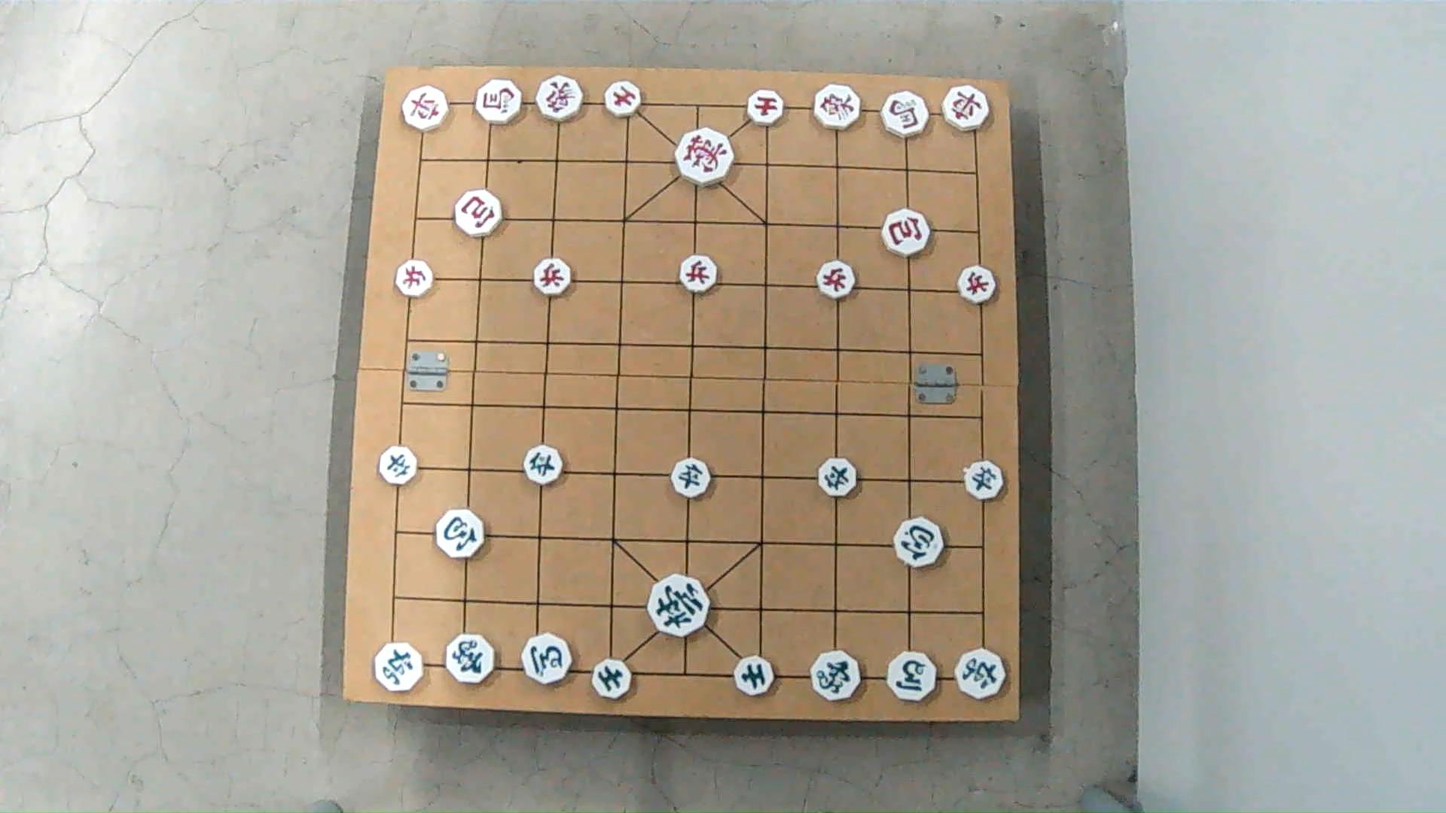cha_green: (956, 647, 1006, 701), (374, 644, 426, 691)
cha_red: (398, 84, 451, 131), (944, 84, 990, 134)
jol_green: (672, 461, 714, 498), (961, 461, 1003, 498), (525, 446, 565, 484), (380, 446, 419, 484), (816, 461, 856, 498)
jol_red: (532, 258, 574, 294), (816, 262, 856, 298), (678, 257, 717, 293), (956, 266, 995, 302), (393, 260, 433, 294)
ma_green: (520, 634, 572, 687), (885, 651, 938, 703)
ma_red: (880, 92, 931, 139), (474, 79, 523, 123)
po_green: (432, 511, 483, 558), (892, 519, 942, 566)
po_red: (881, 211, 930, 254), (455, 190, 503, 233)
sa_green: (591, 658, 633, 699), (736, 657, 777, 693)
sa_red: (603, 80, 642, 114), (745, 91, 784, 124)
sang_green: (810, 647, 862, 703), (445, 635, 498, 685)
sang_red: (534, 75, 584, 123), (813, 85, 862, 129)
wang_green: (648, 574, 711, 634)
wang_red: (676, 129, 735, 183)
